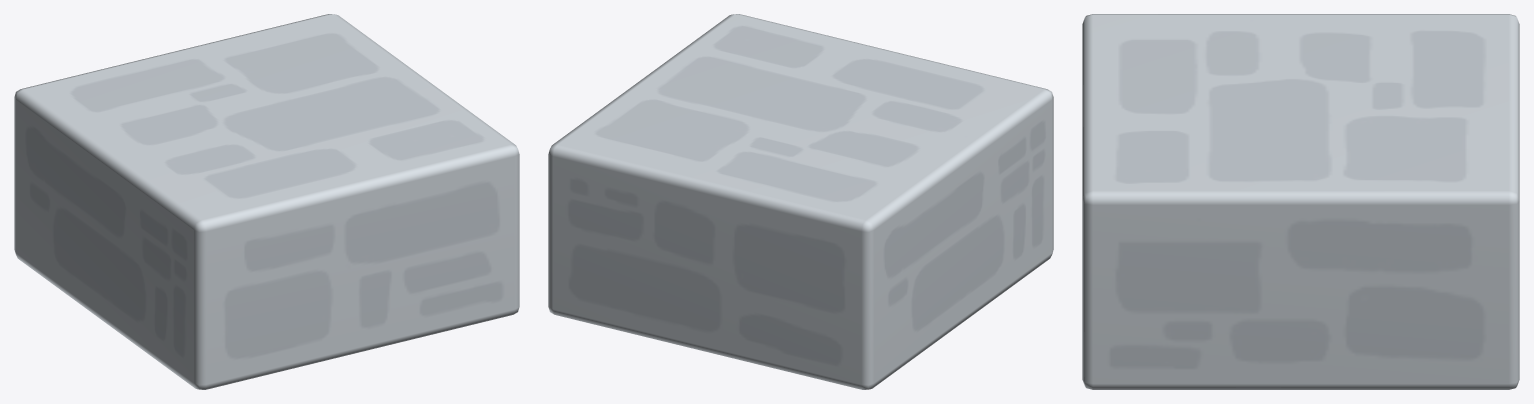
Rendered from SM_Block_02x02.fbx.
3 renders of one model, left to right at view 1: azimuth 30°, elevation 25°; view 2: azimuth 150°, elevation 25°; view 3: azimuth 270°, elevation 25°, orthographic. The views are drawn at different scales.
Parts seen in each view (by area): view 1: SM_Block_02x02; view 2: SM_Block_02x02; view 3: SM_Block_02x02.
Part boxes in pixels (x1,y1,x2,y2): SM_Block_02x02: [14, 14, 519, 389]; SM_Block_02x02: [548, 14, 1053, 389]; SM_Block_02x02: [1082, 14, 1519, 389].
Size of the model in its own units: 2 by 1 by 2.
